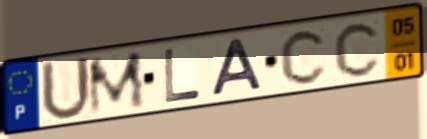A: (210, 36, 266, 99)
C: (278, 27, 330, 87), (332, 19, 383, 79)
L: (162, 46, 202, 105)
M: (85, 48, 148, 118)
U: (39, 54, 95, 124)
